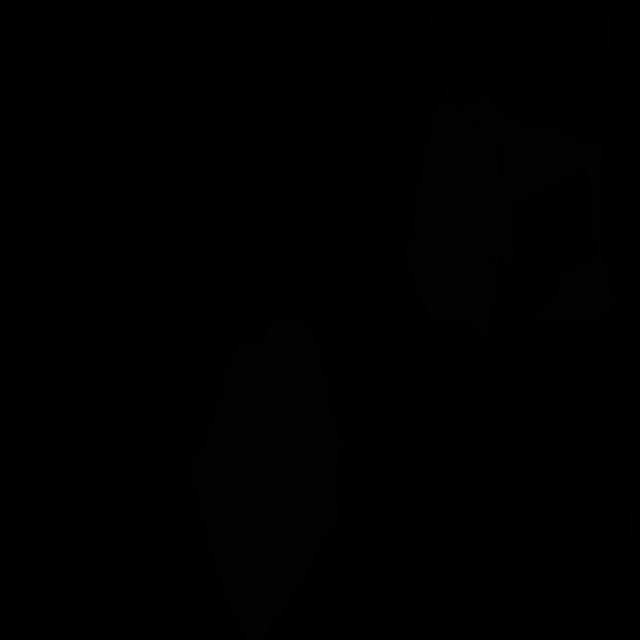cardboard: (189, 319, 342, 640), (457, 97, 614, 324), (411, 95, 507, 263), (399, 212, 499, 337)
rigid_plastic: (425, 0, 614, 125), (597, 337, 640, 556)
